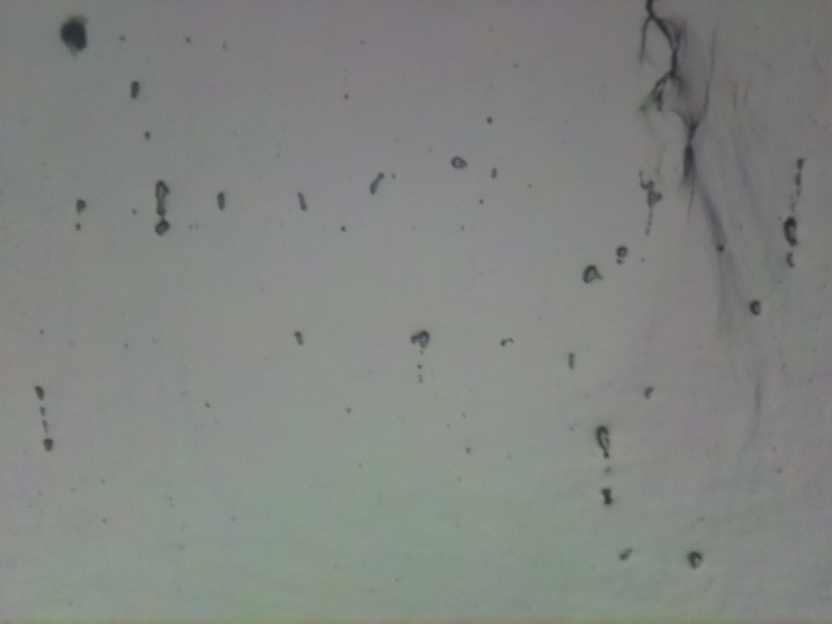crack: (636, 0, 680, 111), (678, 98, 713, 199)
